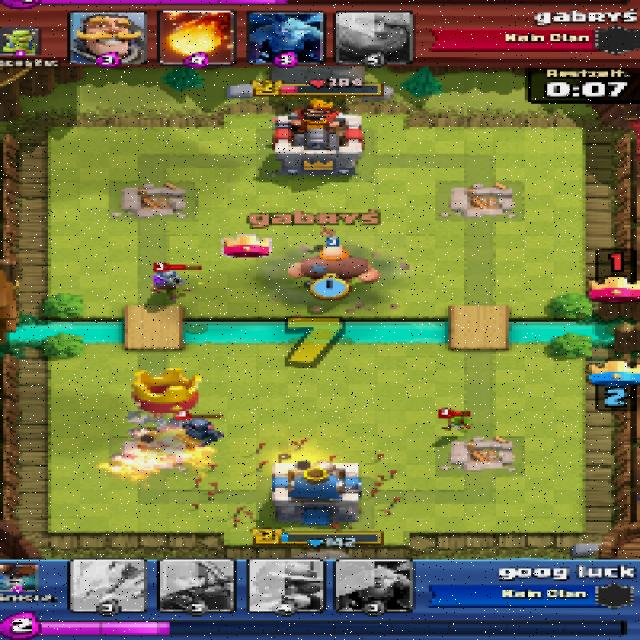Enemy-Arrow: (196, 441, 405, 536)
Enemy-Goblin: (440, 411, 470, 432)
Enemy-MiniPEKKA: (172, 412, 222, 448)
Enemy-Musketeer: (150, 267, 184, 300)
Player-Giant: (288, 245, 379, 293)
